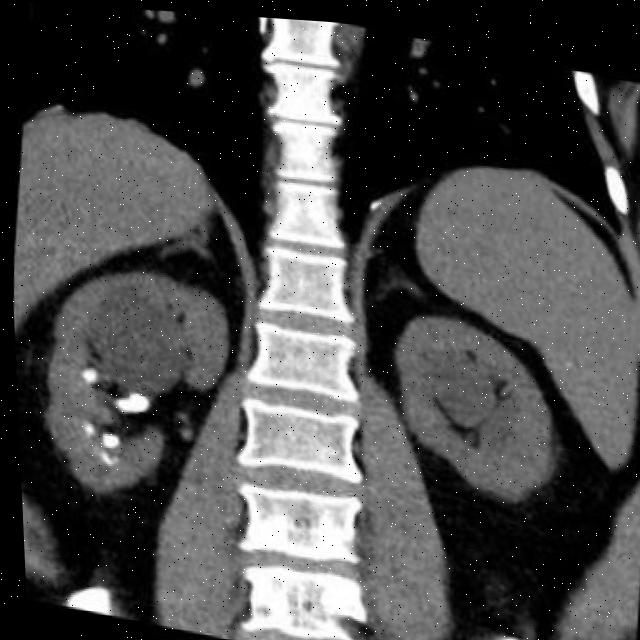Tas_Var: (105, 381, 158, 421), (86, 445, 126, 471), (75, 359, 104, 392), (92, 428, 125, 453), (72, 417, 100, 441)
